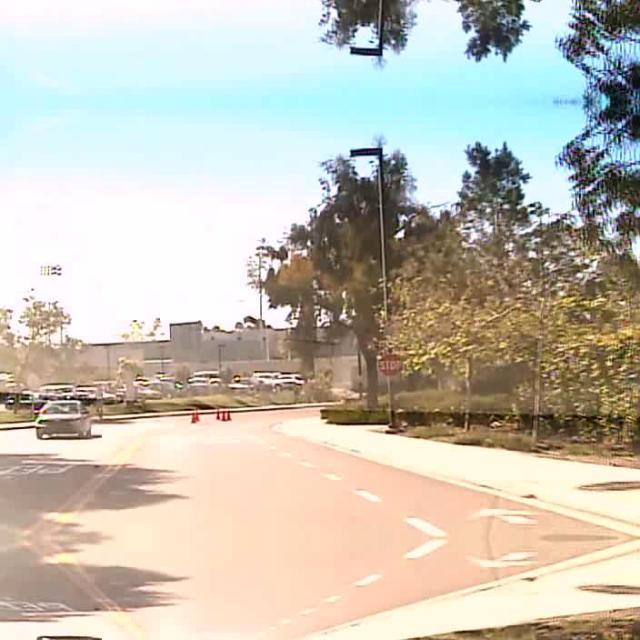stop: (378, 352, 402, 376)
